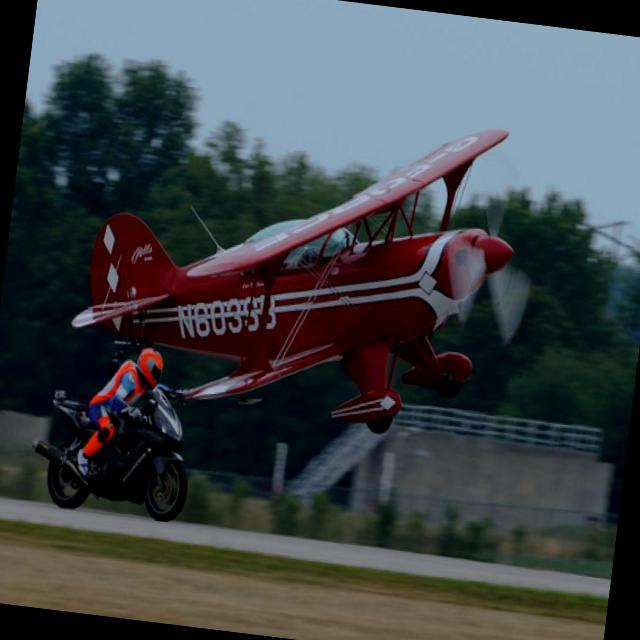Vehicle: (26, 372, 200, 524)
